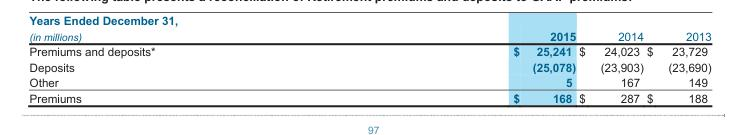table: (28, 29, 710, 104)
table column: (28, 29, 333, 104), (333, 29, 576, 104), (576, 29, 644, 104), (644, 29, 710, 104)
table column header: (28, 29, 710, 43)
table row: (28, 58, 710, 74), (28, 43, 710, 58), (28, 74, 710, 89), (28, 89, 710, 104), (28, 29, 710, 43)
